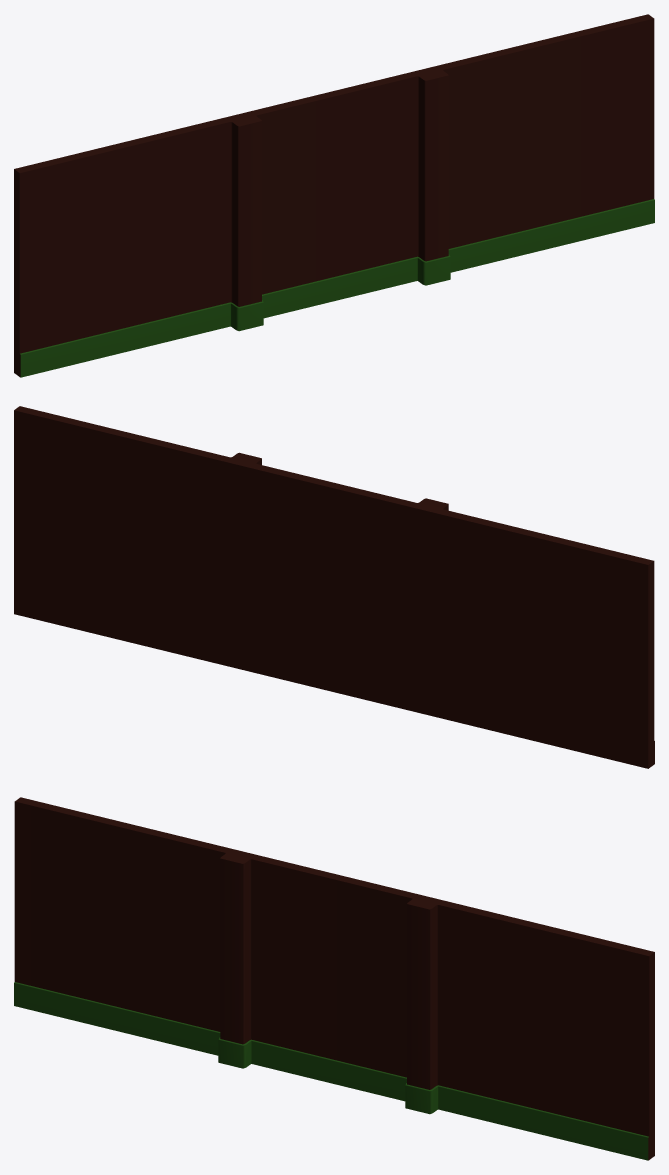
The model's file is SeanElstonLongwall_thickFinal.fbx.
3 renders of one model, top to bottom at view 1: azimuth 30°, elevation 25°; view 2: azimuth 150°, elevation 25°; view 3: azimuth 330°, elevation 25°, orthographic.
Visible parts, largest first — view 1: Longwall_thick; view 2: Longwall_thick; view 3: Longwall_thick.
Part boxes in pixels (box(x1,y1,x2,y2)): Longwall_thick: box(14, 14, 654, 377); Longwall_thick: box(14, 406, 654, 768); Longwall_thick: box(14, 797, 654, 1160).
Size of the model in its own units: 1075 by 330 by 40.04.
